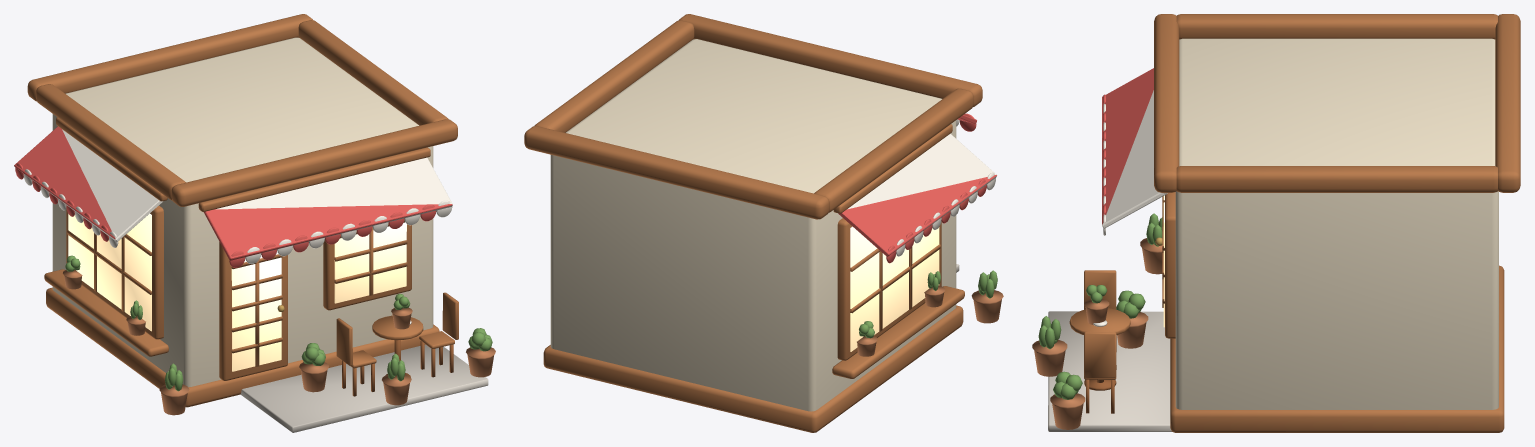
Rendered from mystery.glb.
3 renders of one model, left to right at view 1: azimuth 30°, elevation 25°; view 2: azimuth 150°, elevation 25°; view 3: azimuth 270°, elevation 25°, orthographic. The views are drawn at different scales.
Visible parts, largest first — view 1: mystery; view 2: mystery; view 3: mystery.
Part boxes in pixels (left/top/right/bottom): mystery: left=14, top=14, right=495, bottom=432; mystery: left=524, top=14, right=1003, bottom=432; mystery: left=1032, top=14, right=1520, bottom=432.
Size of the model in its own units: 2.43 by 1.64 by 2.72.
